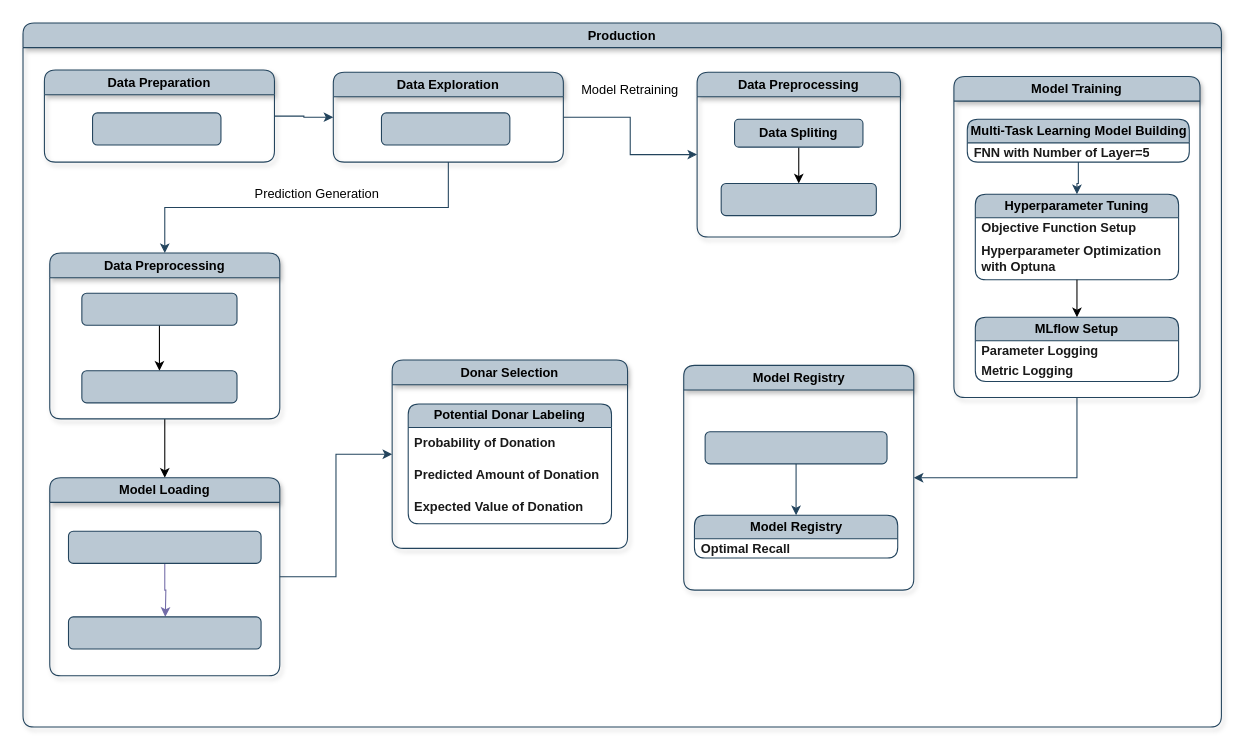
The diagram is 1247 pixels wide and 753 high, and some of its shapes have lost their labels. The centre of each missing label's shape, as x and y in pixels:
Data Cleaning: the point at 156,128
General Exploration: the point at 445,128
Historical Version Searching: the point at 795,447
Label Encoded Loading: the point at 159,308
Label Encoder Building: the point at 798,199
Label Encoding: the point at 159,386
Production Model Loading: the point at 164,632
Production Version Searching: the point at 164,546
